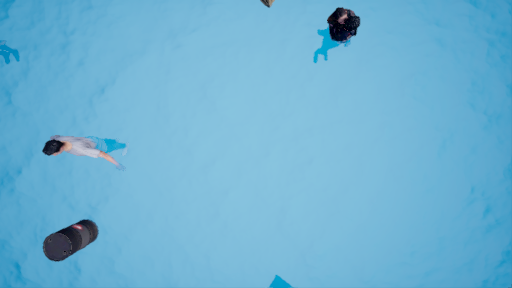person: (38, 132, 133, 176), (303, 3, 361, 69)
